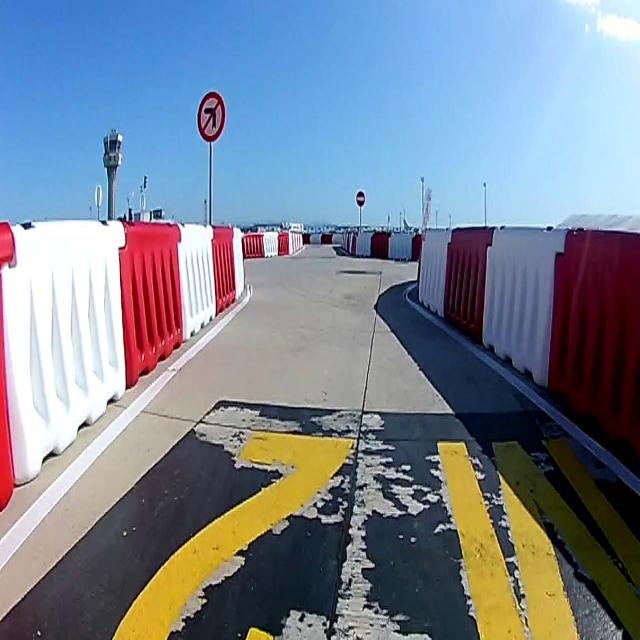girisyok: (356, 191, 364, 207)
soladonulmez: (197, 92, 226, 143)
